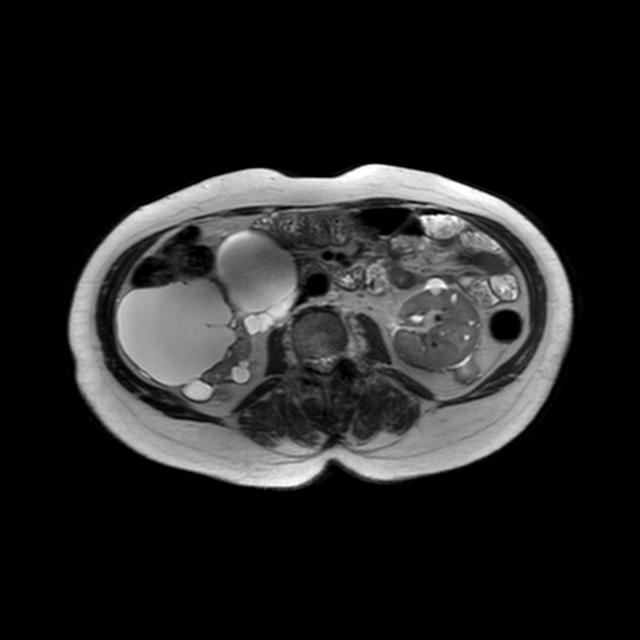sag: (112, 231, 301, 402)
sol: (389, 275, 484, 385)
